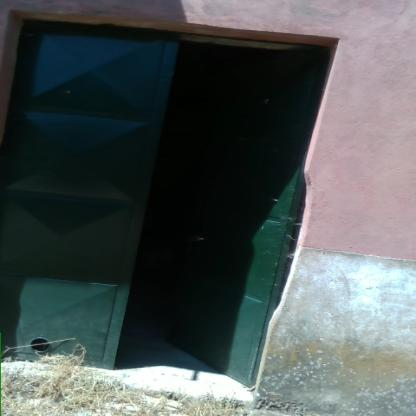open: (6, 9, 332, 397)
